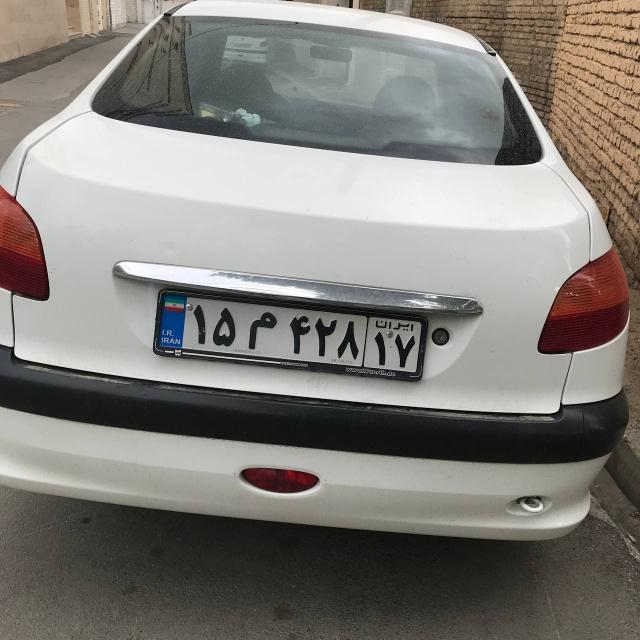Plates: (156, 294, 422, 373)
